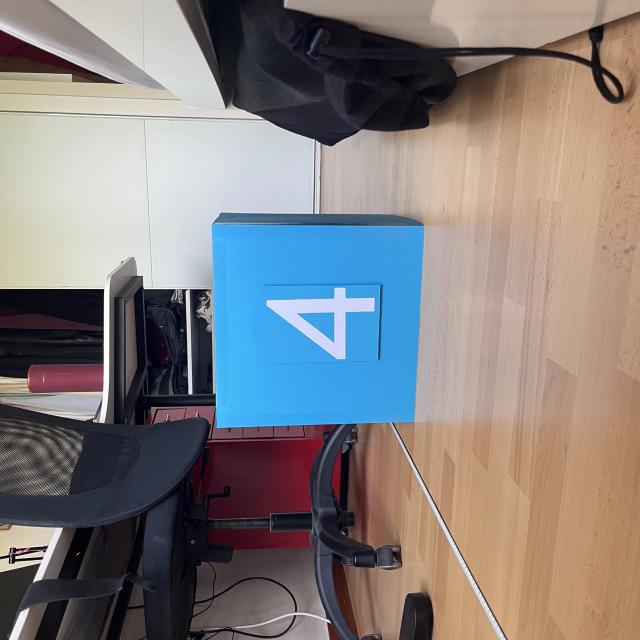box: (206, 207, 426, 429)
